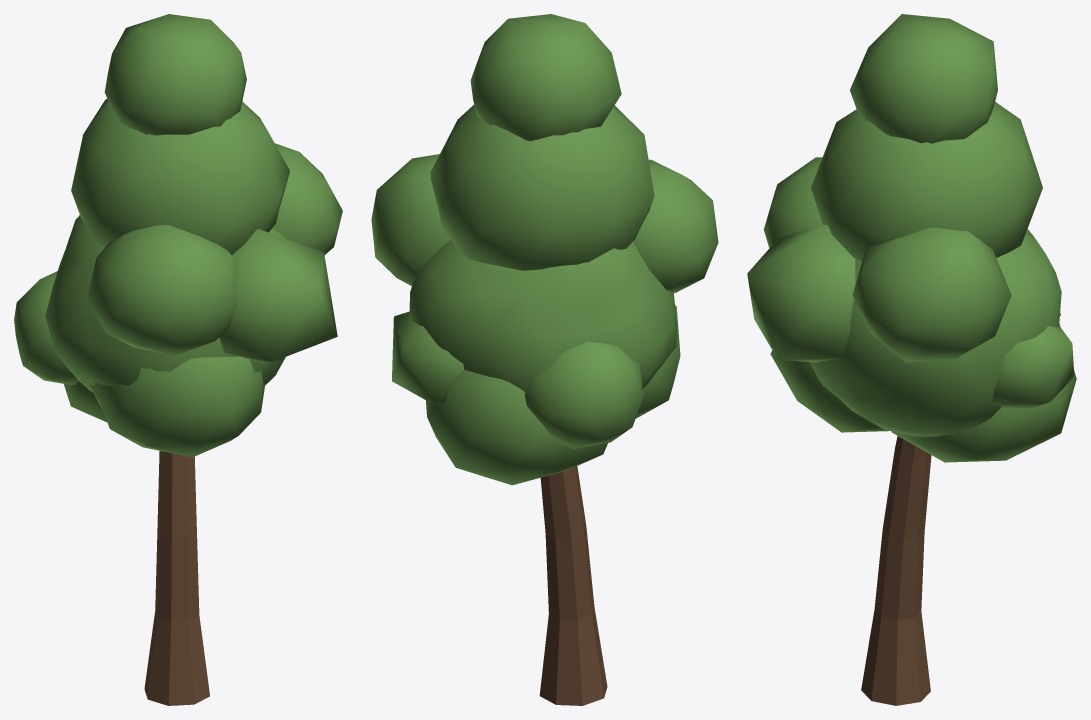
File: tree_tall_1.glb
3 renders of one model, left to right at view 1: azimuth 30°, elevation 25°; view 2: azimuth 150°, elevation 25°; view 3: azimuth 270°, elevation 25°, orthographic. The views are drawn at different scales.
Parts seen in each view (by area): view 1: tree_tall_1; view 2: tree_tall_1; view 3: tree_tall_1.
Part boxes in pixels (x1=…): tree_tall_1: x1=14, y1=14, x2=342, y2=705; tree_tall_1: x1=371, y1=14, x2=718, y2=705; tree_tall_1: x1=747, y1=14, x2=1076, y2=705.
Size of the model in its own units: 3.05 by 6.88 by 3.06.
